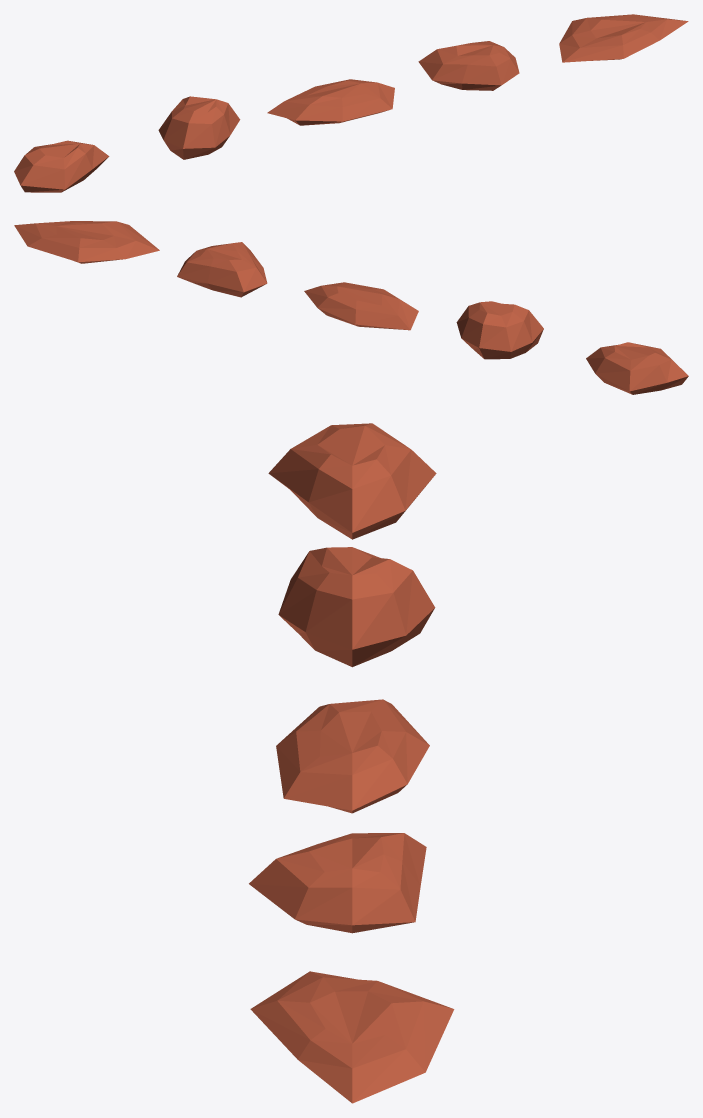
The model's file is asset.glb.
3 renders of one model, top to bottom at view 1: azimuth 30°, elevation 25°; view 2: azimuth 150°, elevation 25°; view 3: azimuth 270°, elevation 25°, orthographic. The views are drawn at different scales.
Visible parts, largest first — view 1: Mesh_Rock_4, Mesh_Rock_2, Mesh_Rock_3, Mesh_Rock_1, Mesh_Rock_0; view 2: Mesh_Rock_4, Mesh_Rock_1, Mesh_Rock_0, Mesh_Rock_2, Mesh_Rock_3; view 3: Mesh_Rock_4, Mesh_Rock_3, Mesh_Rock_1, Mesh_Rock_2, Mesh_Rock_0.
Boxes of the visible parts, x1,y1,x2,y2 form: Mesh_Rock_4: (559, 14, 688, 62); Mesh_Rock_2: (267, 79, 394, 125); Mesh_Rock_3: (418, 41, 519, 90); Mesh_Rock_1: (158, 96, 240, 159); Mesh_Rock_0: (14, 140, 109, 192); Mesh_Rock_4: (14, 221, 159, 263); Mesh_Rock_1: (456, 301, 543, 359); Mesh_Rock_0: (586, 342, 688, 394); Mesh_Rock_2: (304, 282, 418, 330); Mesh_Rock_3: (177, 242, 267, 297); Mesh_Rock_4: (250, 971, 454, 1103); Mesh_Rock_3: (249, 833, 426, 933); Mesh_Rock_1: (278, 547, 435, 667); Mesh_Rock_2: (276, 699, 429, 813); Mesh_Rock_0: (268, 423, 436, 539).
Bounding box in the file's own units: 16.98 × 0.9614 × 2.27.
